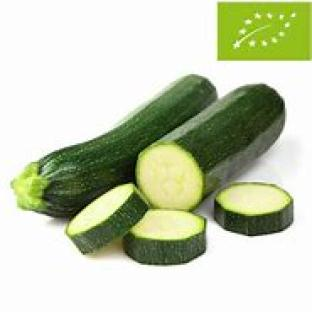Zucchini: (12, 75, 215, 217), (137, 85, 285, 210), (66, 184, 148, 252), (124, 210, 205, 264), (215, 183, 293, 236)
